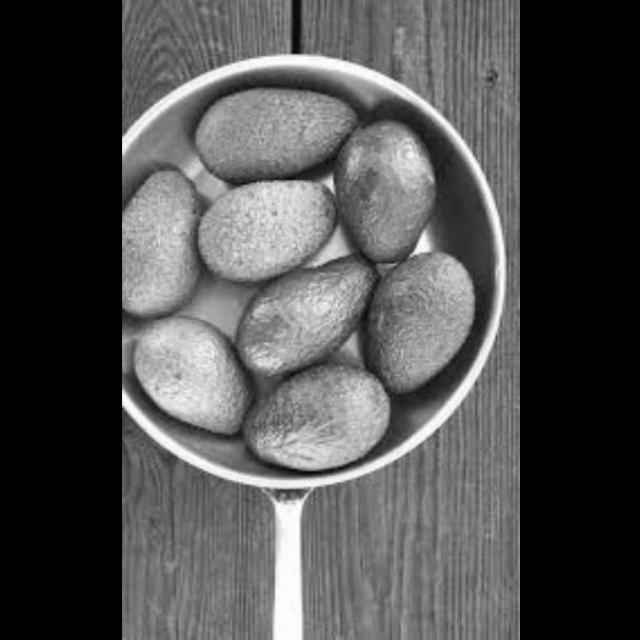bo: (330, 107, 457, 278), (372, 246, 508, 405), (221, 249, 385, 378), (176, 75, 367, 182), (242, 358, 400, 479), (188, 173, 334, 299), (136, 318, 262, 450), (122, 154, 211, 334)
